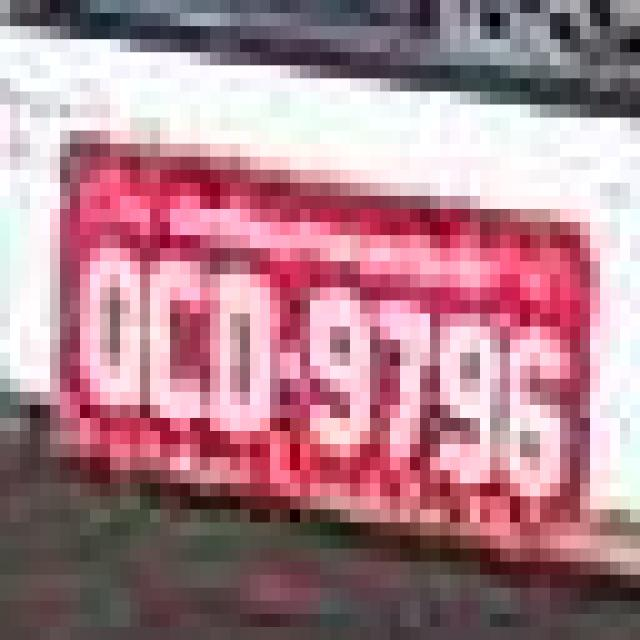6: (502, 306, 579, 521)
7: (370, 288, 430, 491)
9: (300, 272, 374, 488), (436, 288, 500, 512)
C: (141, 242, 214, 442)
O: (204, 251, 279, 475), (68, 233, 147, 432)
